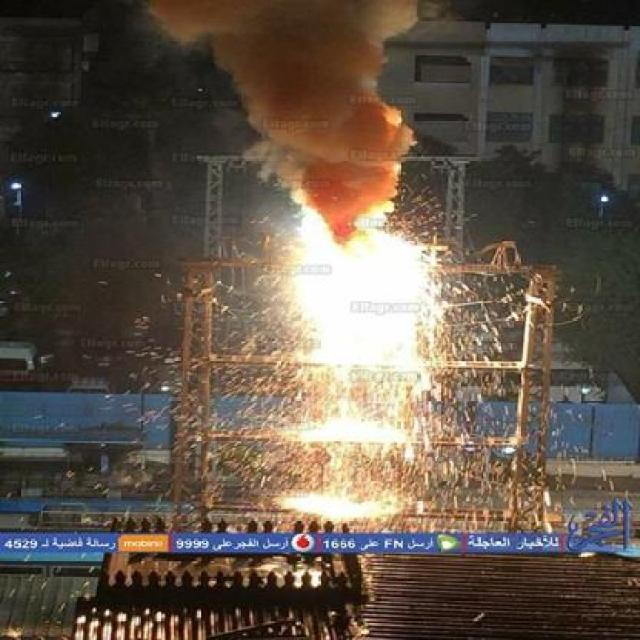Fire: (291, 206, 437, 540)
Smoke: (164, 7, 422, 220)
